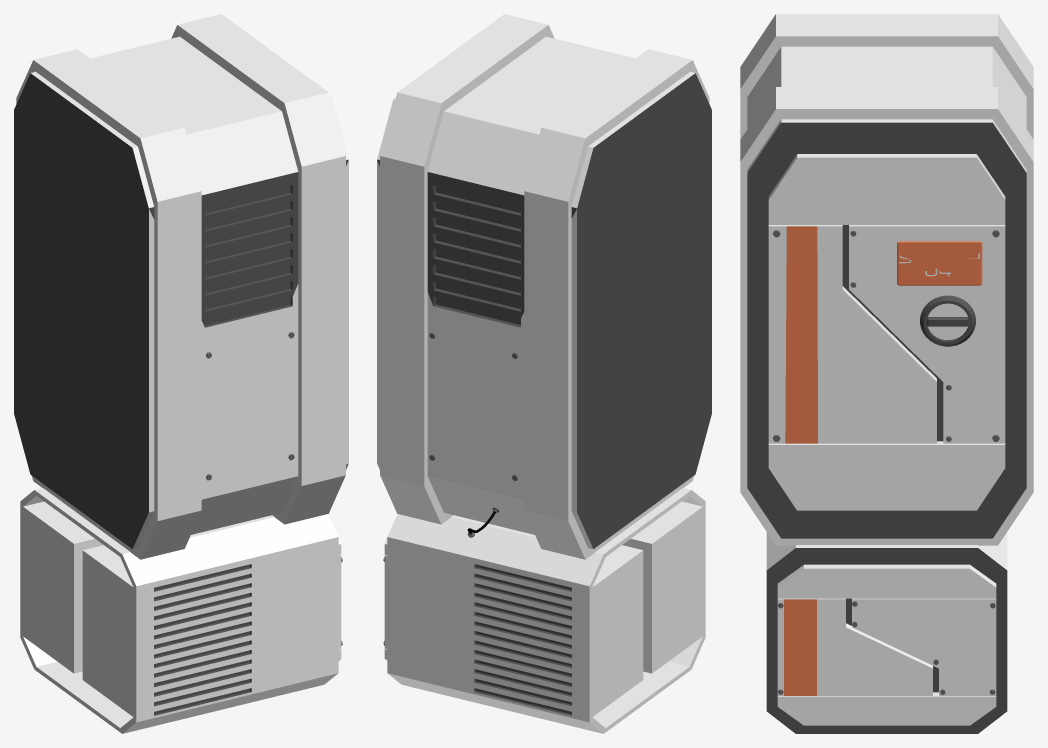
The model's file is SciFiLocker2.fbx.
The picture shows the model from 3 angles, left to right: view 1: azimuth 30°, elevation 25°; view 2: azimuth 150°, elevation 25°; view 3: azimuth 270°, elevation 25°; orthographic projection. The views are drawn at different scales.
Visible parts, largest first — view 1: Cube, base, Cube.004, Cube.001, Cube.002, Plane, base.001; view 2: Cube, base, Cube.004, Cube.001, Cube.002, plates|Plane|Dupli|, base.001; view 3: Cube.003, Cube, Cube.006, Cube.007, Cube.002, Cube.004, Cube.001, base.002, Cube.008, Cube.011, red strip, base (+1 smaller).
Part boxes in pixels (x1=…): Cube: x1=14, y1=73, x2=348, y2=548; base: x1=20, y1=488, x2=338, y2=733; Cube.004: x1=31, y1=36, x2=348, y2=548; Cube.001: x1=16, y1=49, x2=201, y2=559; Cube.002: x1=171, y1=14, x2=345, y2=524; Plane: x1=203, y1=328, x2=296, y2=483; base.001: x1=154, y1=564, x2=251, y2=715; Cube: x1=377, y1=73, x2=711, y2=548; base: x1=387, y1=488, x2=705, y2=733; Cube.004: x1=377, y1=36, x2=694, y2=548; Cube.001: x1=524, y1=49, x2=709, y2=559; Cube.002: x1=380, y1=14, x2=554, y2=524; plates|Plane|Dupli|: x1=428, y1=328, x2=521, y2=483; base.001: x1=474, y1=564, x2=571, y2=715; Cube.003: x1=768, y1=154, x2=1005, y2=510; Cube: x1=747, y1=122, x2=1026, y2=538; Cube.006: x1=777, y1=564, x2=996, y2=725; Cube.007: x1=768, y1=226, x2=936, y2=443; Cube.002: x1=740, y1=87, x2=1033, y2=545; Cube.004: x1=747, y1=46, x2=1026, y2=172; Cube.001: x1=740, y1=14, x2=1033, y2=139; base.002: x1=766, y1=548, x2=1007, y2=733; Cube.008: x1=785, y1=226, x2=817, y2=443; Cube.011: x1=897, y1=241, x2=982, y2=285; red strip: x1=784, y1=599, x2=816, y2=695; base: x1=766, y1=532, x2=1007, y2=569.
Size of the model in its own units: 215 by 574 by 245.
